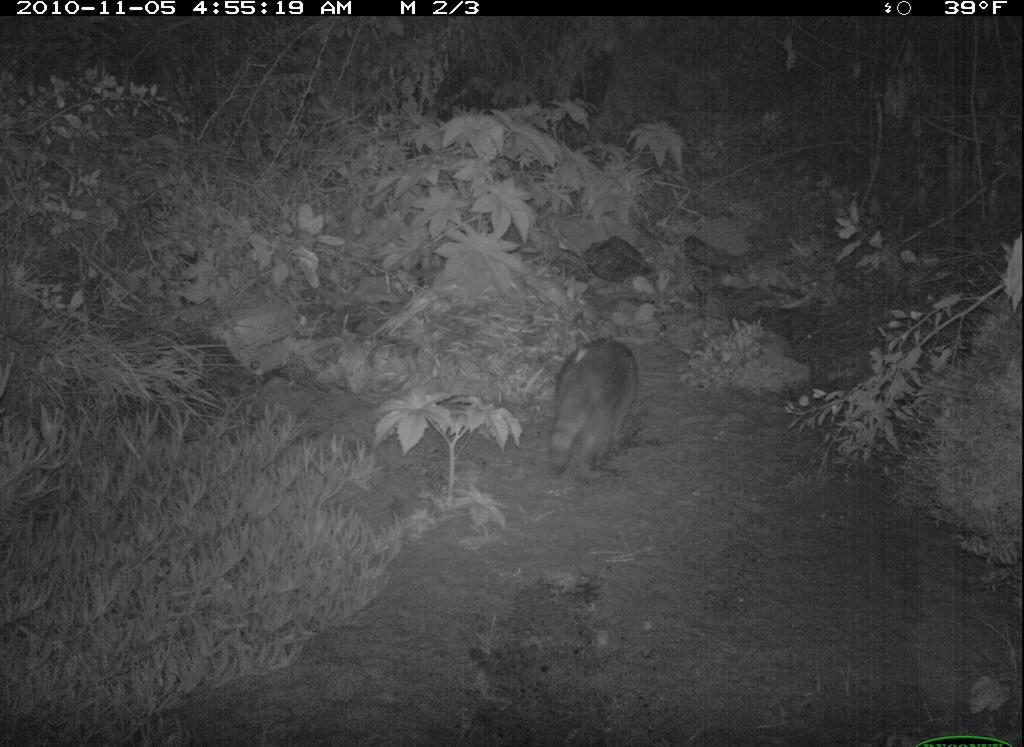raccoon: (532, 324, 652, 493)
